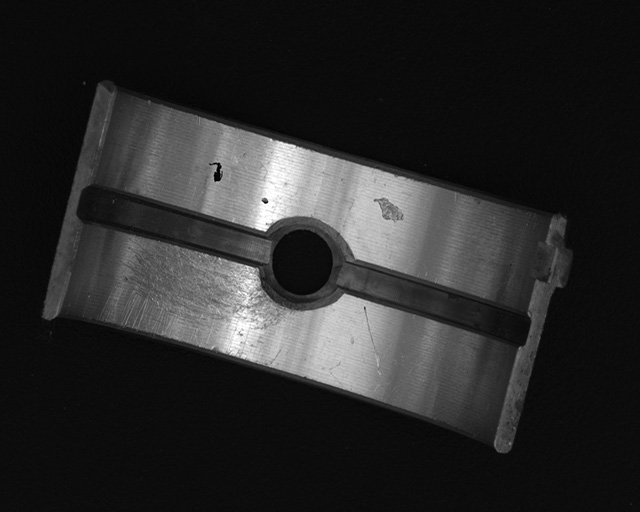blot: (207, 161, 224, 183)
bruise: (373, 197, 405, 225), (261, 197, 269, 204)
gap: (338, 258, 527, 345), (78, 185, 273, 263)
hole: (260, 218, 350, 307)
nick: (363, 305, 381, 376)
scratch: (96, 228, 287, 367)
